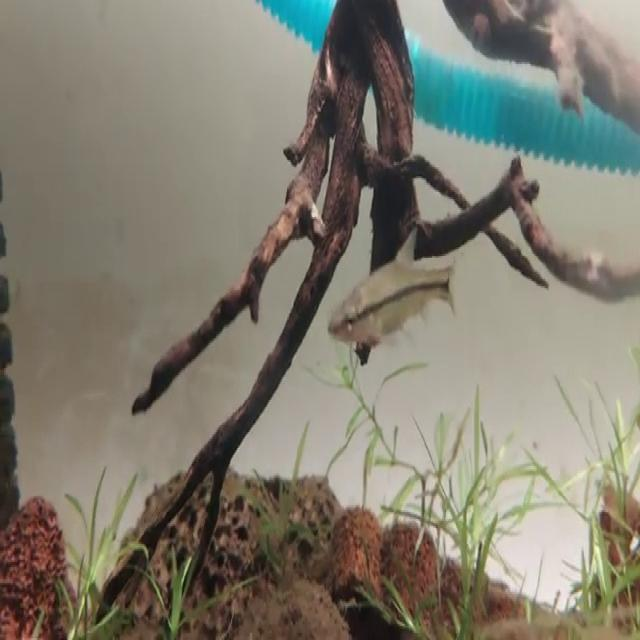Cakil Baligi: (319, 227, 462, 350)
